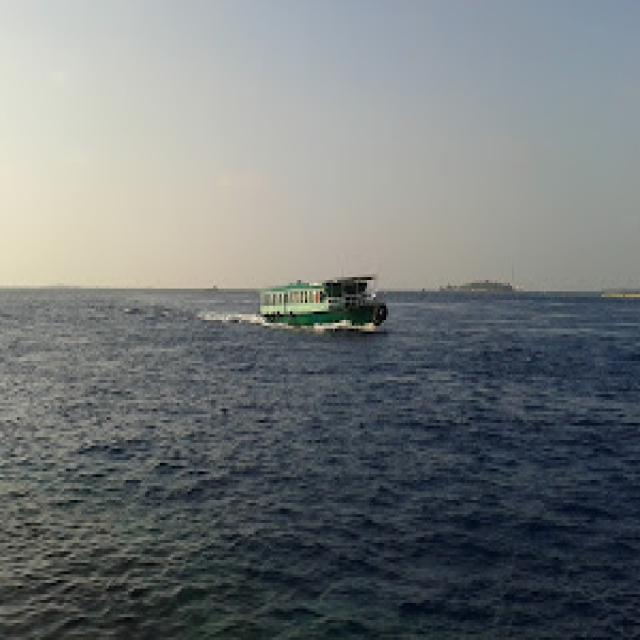houseboat: (239, 261, 385, 353)
